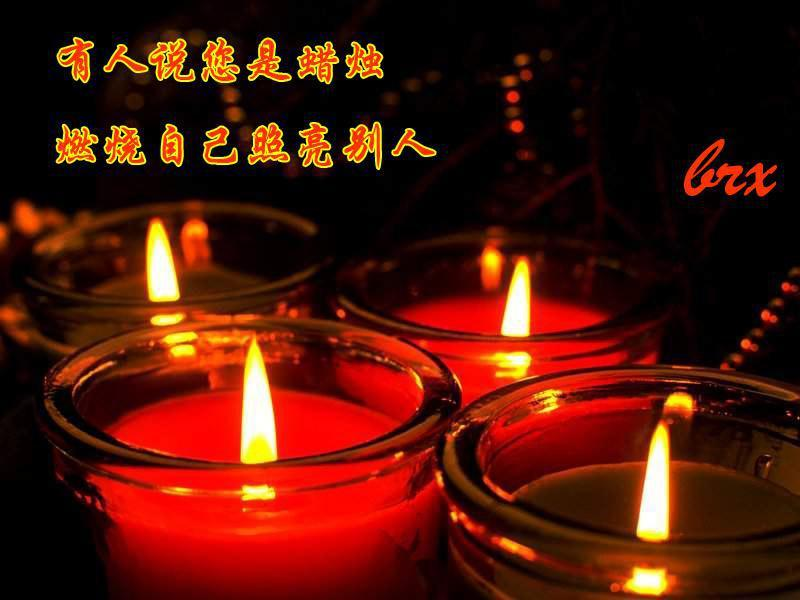fire: (217, 338, 286, 491), (633, 415, 689, 571), (134, 212, 190, 329), (500, 259, 538, 378)
